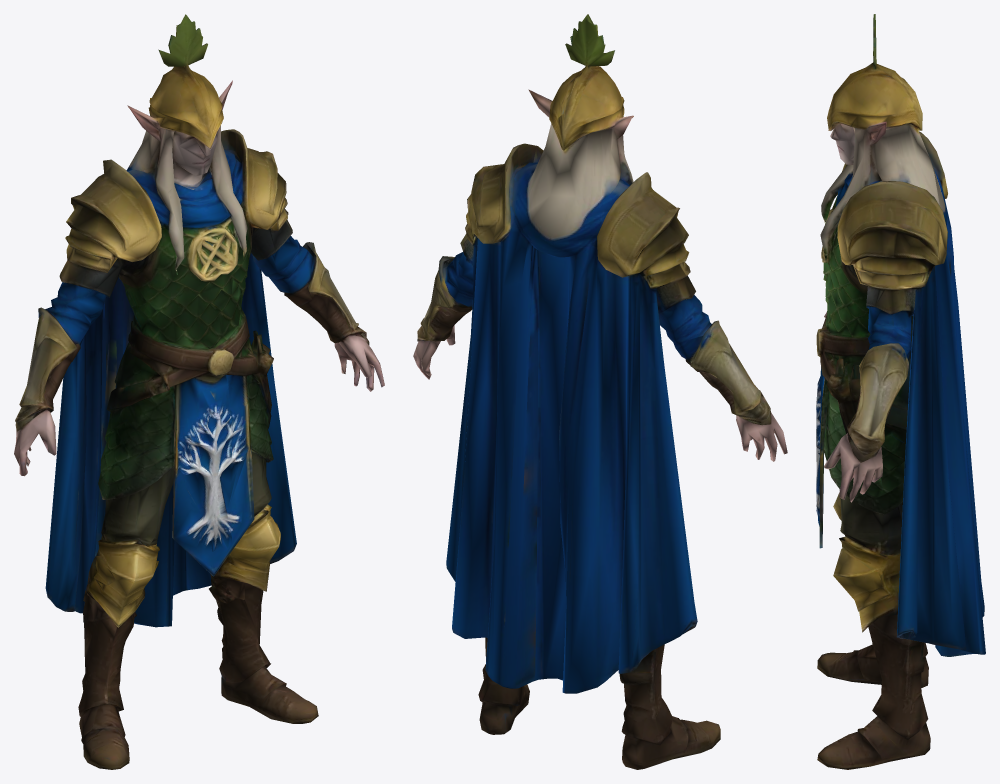
File: elf_inf.glb
3 renders of one model, left to right at view 1: azimuth 30°, elevation 25°; view 2: azimuth 150°, elevation 25°; view 3: azimuth 270°, elevation 25°, orthographic. The views are drawn at different scales.
Visible parts, largest first — view 1: node_0; view 2: node_0; view 3: node_0.
Part boxes in pixels (box(x1,y1,x2,y2)): node_0: box(14, 14, 384, 769); node_0: box(413, 14, 787, 769); node_0: box(816, 14, 985, 769).
Bounding box in the file's own units: 0.6045 × 1.13 × 0.2474.
Materials: 1 (1 with a texture image).
